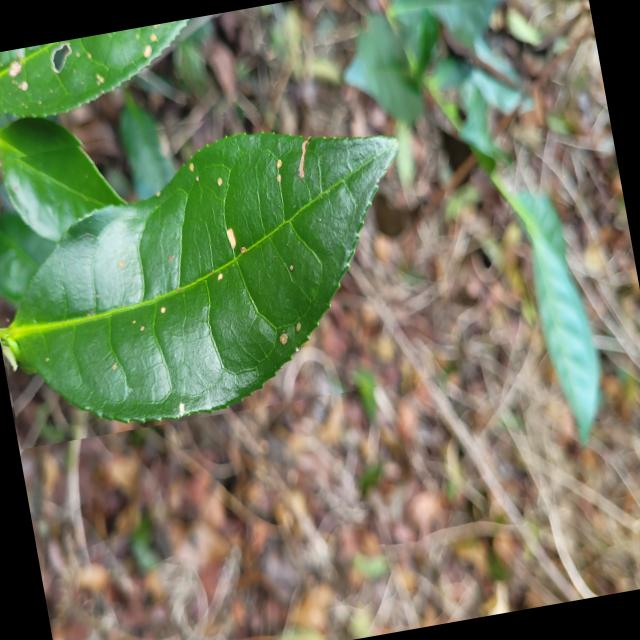Category D(7+ days, Not for Tea): (0, 78, 462, 449)
